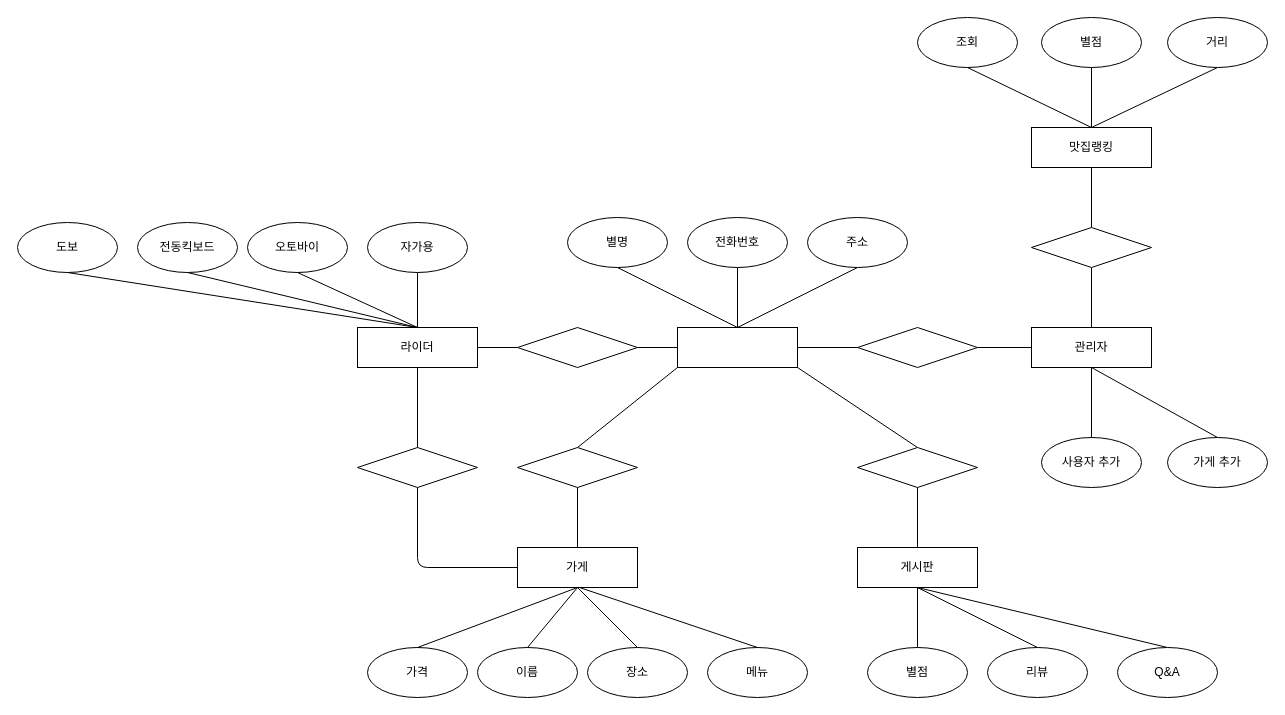
This 1285x715 diagram has some shape labels left out. Each missing label, with the centre of its shape:
"게시" belongs at pixel 917 467.
"관리" belongs at pixel 1091 247.
"문의" belongs at pixel 917 347.
"배달" belongs at pixel 577 347.
"배정" belongs at pixel 417 467.
"손님" belongs at pixel 737 347.
"주문" belongs at pixel 577 467.
